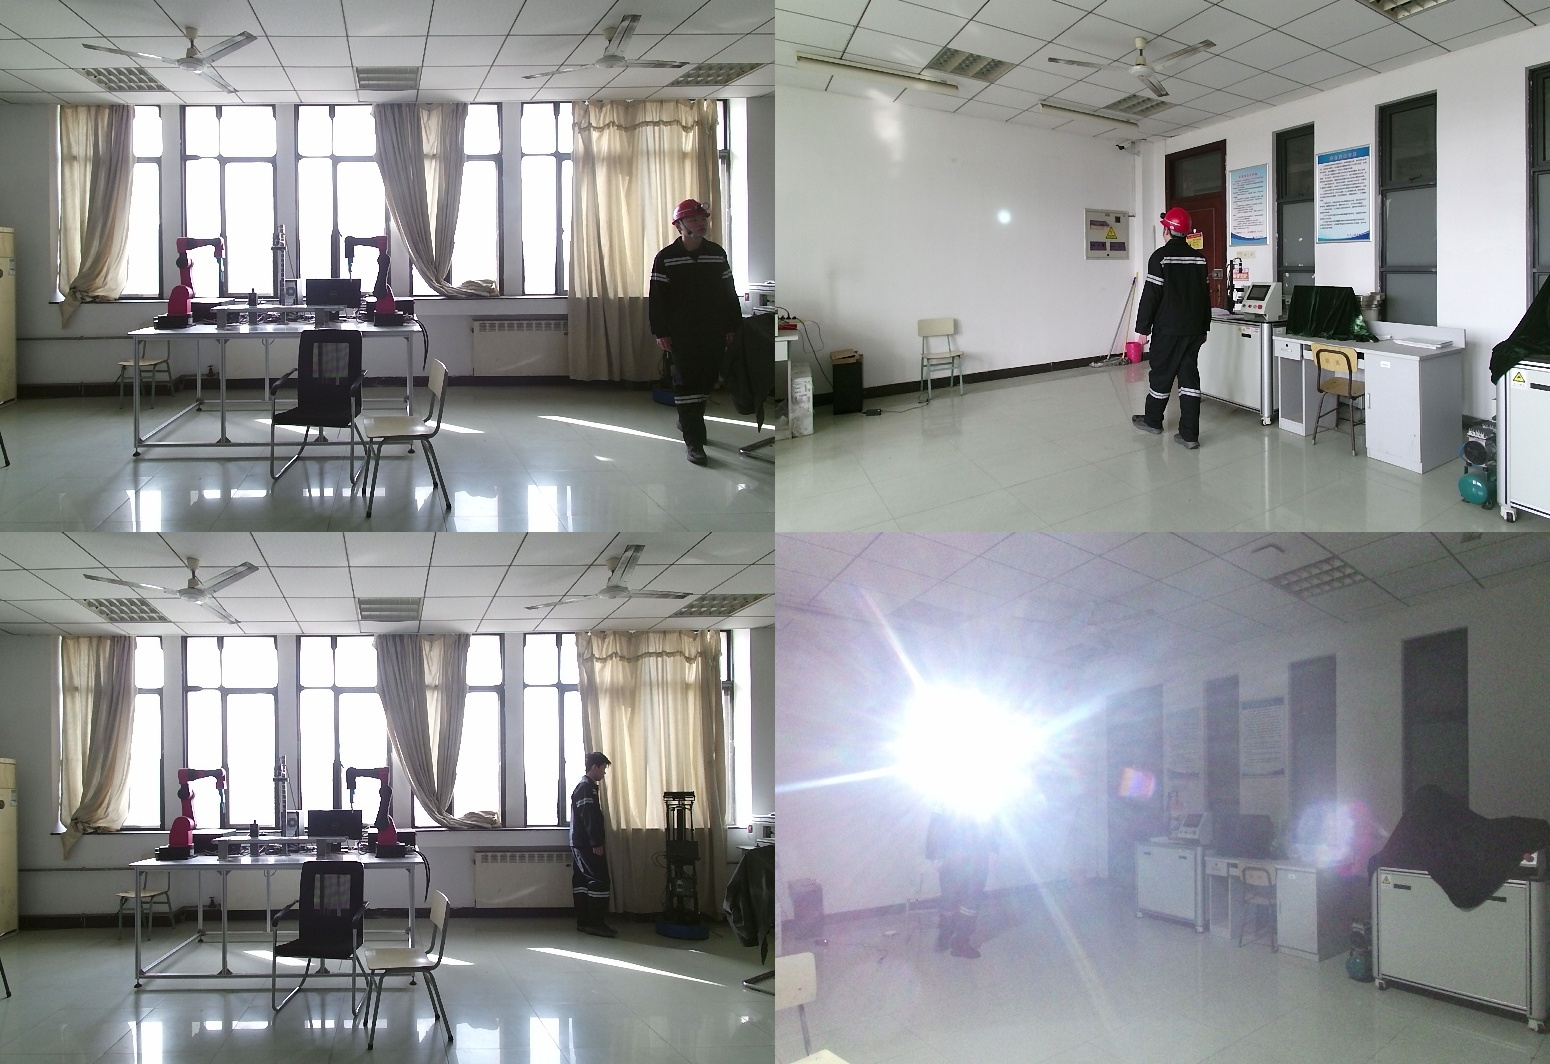person: (648, 198, 742, 463), (1132, 208, 1224, 445), (933, 750, 1024, 974), (571, 753, 636, 942)
